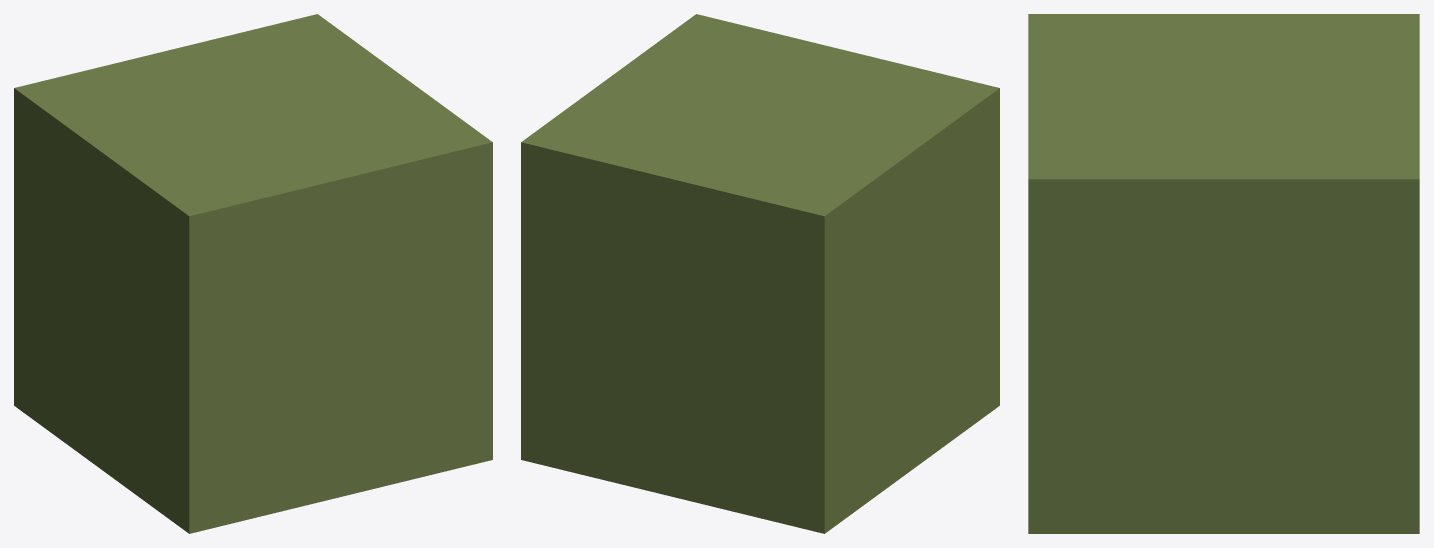
Rendered from grassTile.fbx.
The picture shows the model from 3 angles, left to right: view 1: azimuth 30°, elevation 25°; view 2: azimuth 150°, elevation 25°; view 3: azimuth 270°, elevation 25°; orthographic projection. The views are drawn at different scales.
Parts seen in each view (by area): view 1: grassCube; view 2: grassCube; view 3: grassCube.
Part boxes in pixels (x1,y1,x2,y2): grassCube: (14,14,492,533); grassCube: (521,14,999,533); grassCube: (1028,14,1419,533).
Bounding box in the file's own units: 100 × 100 × 100.
